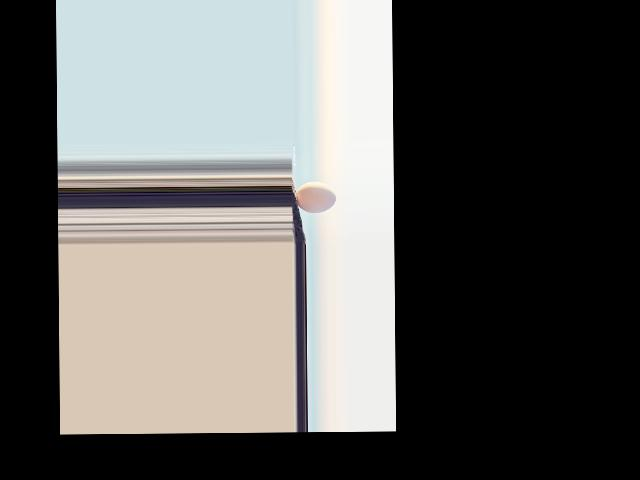egg: (296, 181, 336, 213)
